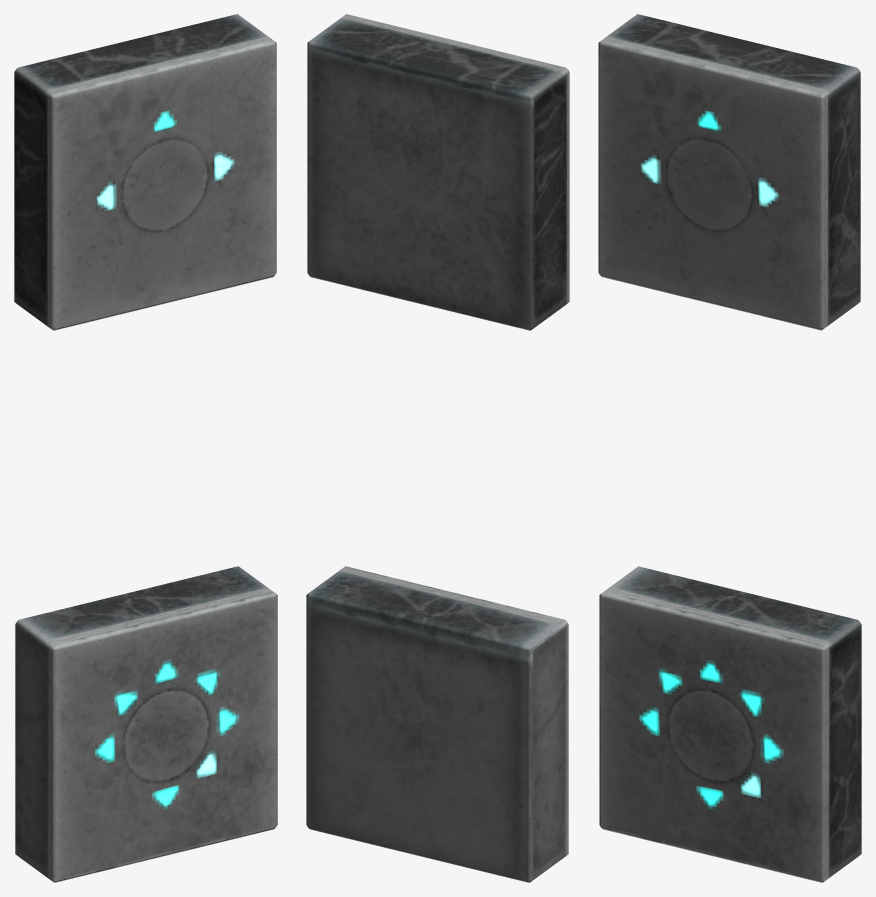
File: stoneppuzzle_packC.fbx
The picture shows the model from 3 angles, left to right: view 1: azimuth 30°, elevation 25°; view 2: azimuth 150°, elevation 25°; view 3: azimuth 330°, elevation 25°; orthographic projection.
Parts seen in each view (by area): view 1: stonepuzzlepack_1_15, stonepuzzlepack_1_16; view 2: stonepuzzlepack_1_15, stonepuzzlepack_1_16; view 3: stonepuzzlepack_1_15, stonepuzzlepack_1_16.
Boxes of the visible parts, box(x1,y1,x2,y2) form: stonepuzzlepack_1_15: box(14, 14, 276, 330); stonepuzzlepack_1_16: box(15, 566, 277, 882); stonepuzzlepack_1_15: box(307, 14, 569, 330); stonepuzzlepack_1_16: box(306, 566, 568, 882); stonepuzzlepack_1_15: box(598, 14, 860, 330); stonepuzzlepack_1_16: box(599, 566, 861, 882).
Size of the model in its own units: 2.05 by 6.8 by 0.6196.
1 material, 1 textured.
